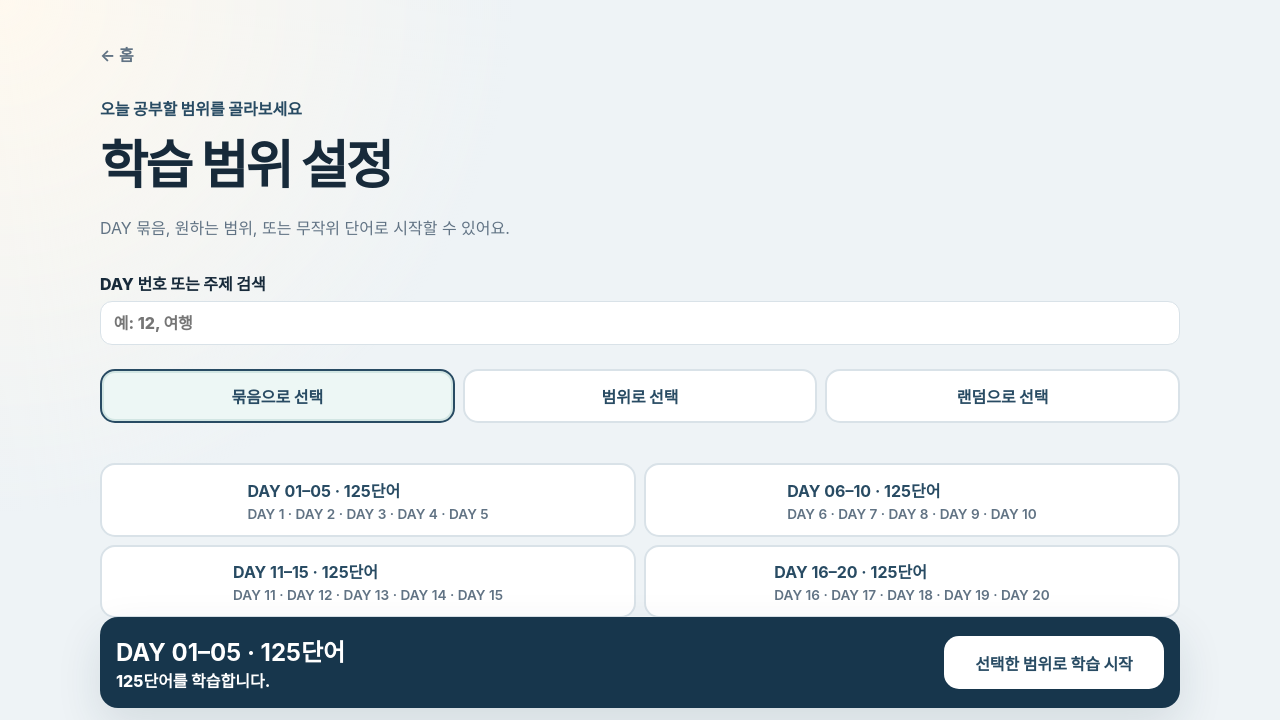
Test case: shows bundle, range and random modes
Expected: the tab "묶음으로 선택" is shown, [100, 369, 455, 423]
Click the tab "범위로 선택" at (640,396), box [463, 369, 817, 423]
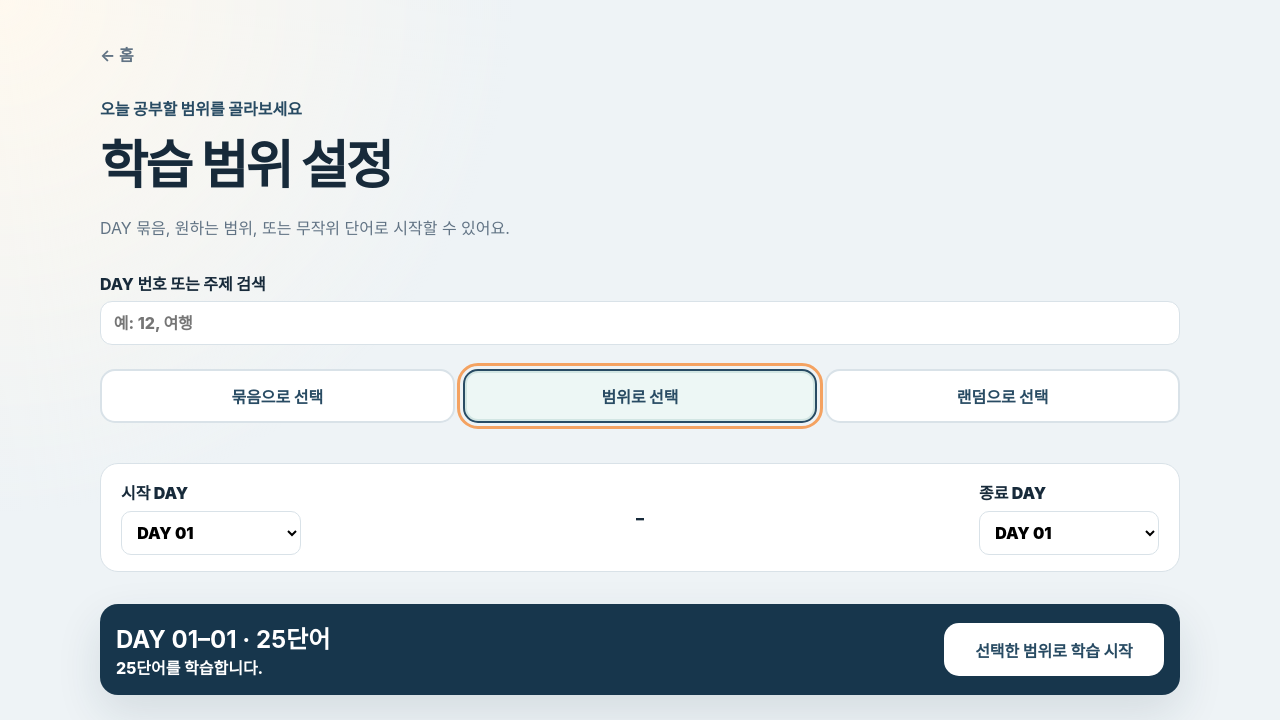
Expected: the dropdown labelled "시작 DAY" is shown, [121, 511, 301, 555]
Click the tab "랜덤으로 선택" at (1003,396), box [825, 369, 1180, 423]
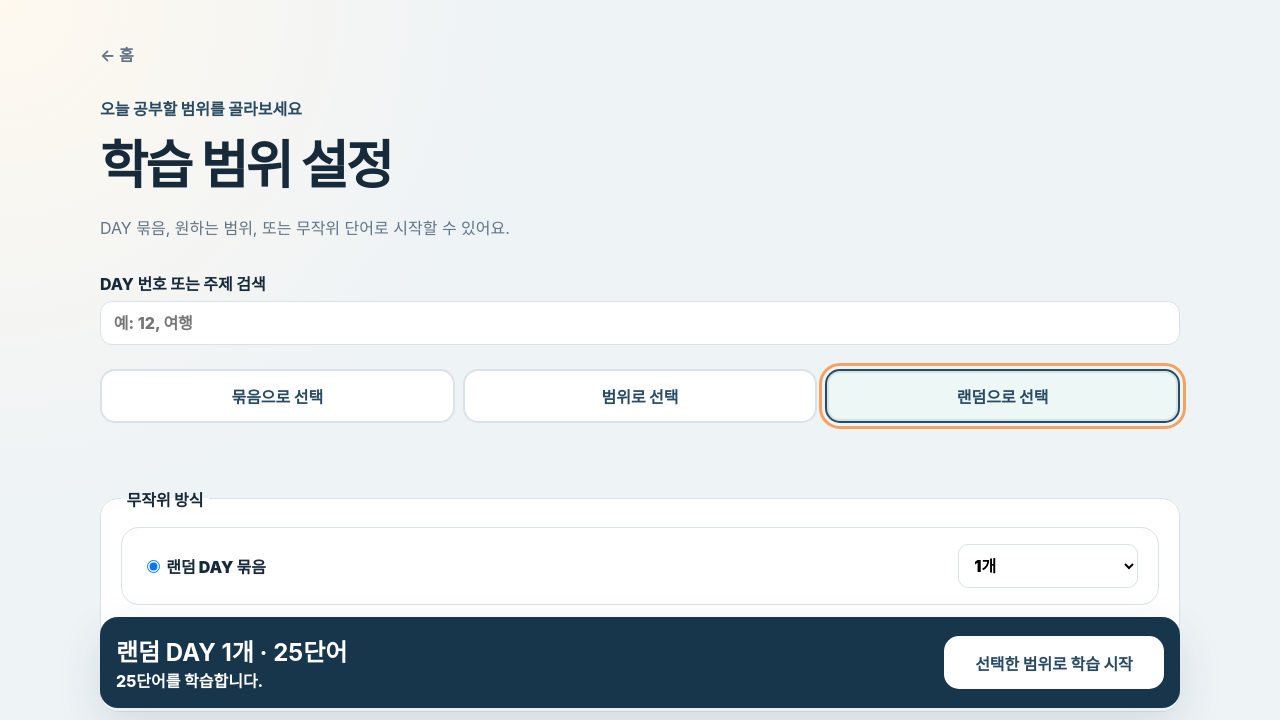
Expected: the dropdown named "랜덤 단어 수" shows "25개", [958, 634, 1138, 678]
